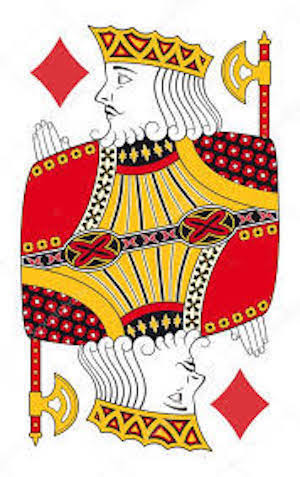KingOfDiamonds: (7, 15, 296, 460)
